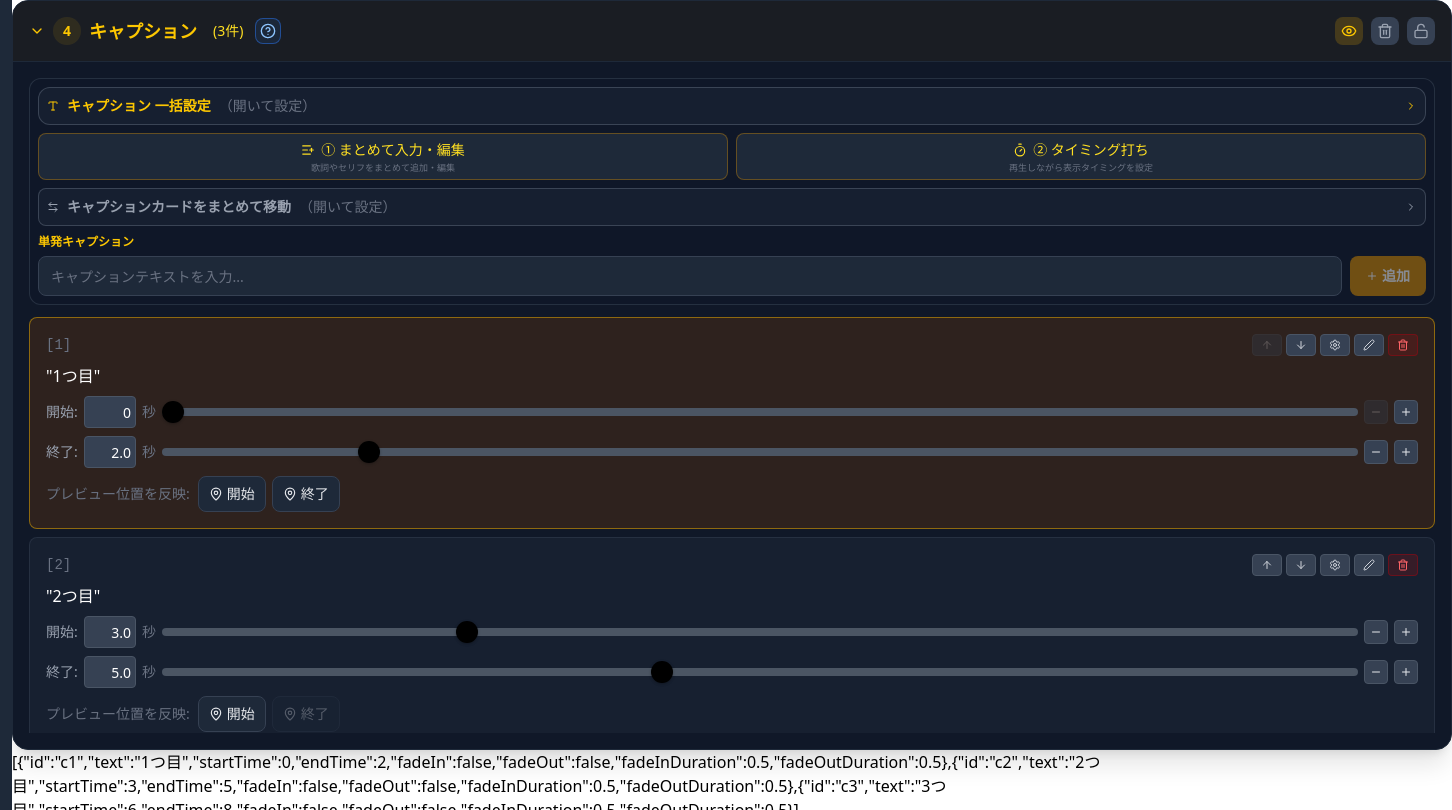
Test: タイミング打ちのプレビュー表示制御 › 手動終了（close-button）で通常のプレビューへ戻し、更新したデータを保持する
The width and height of the screenshot is (1452, 810).
Click the button "② タイミング打ち 再生しながら表示タイミングを設定". click: (1081, 157)
box: [736,133,1426,180]
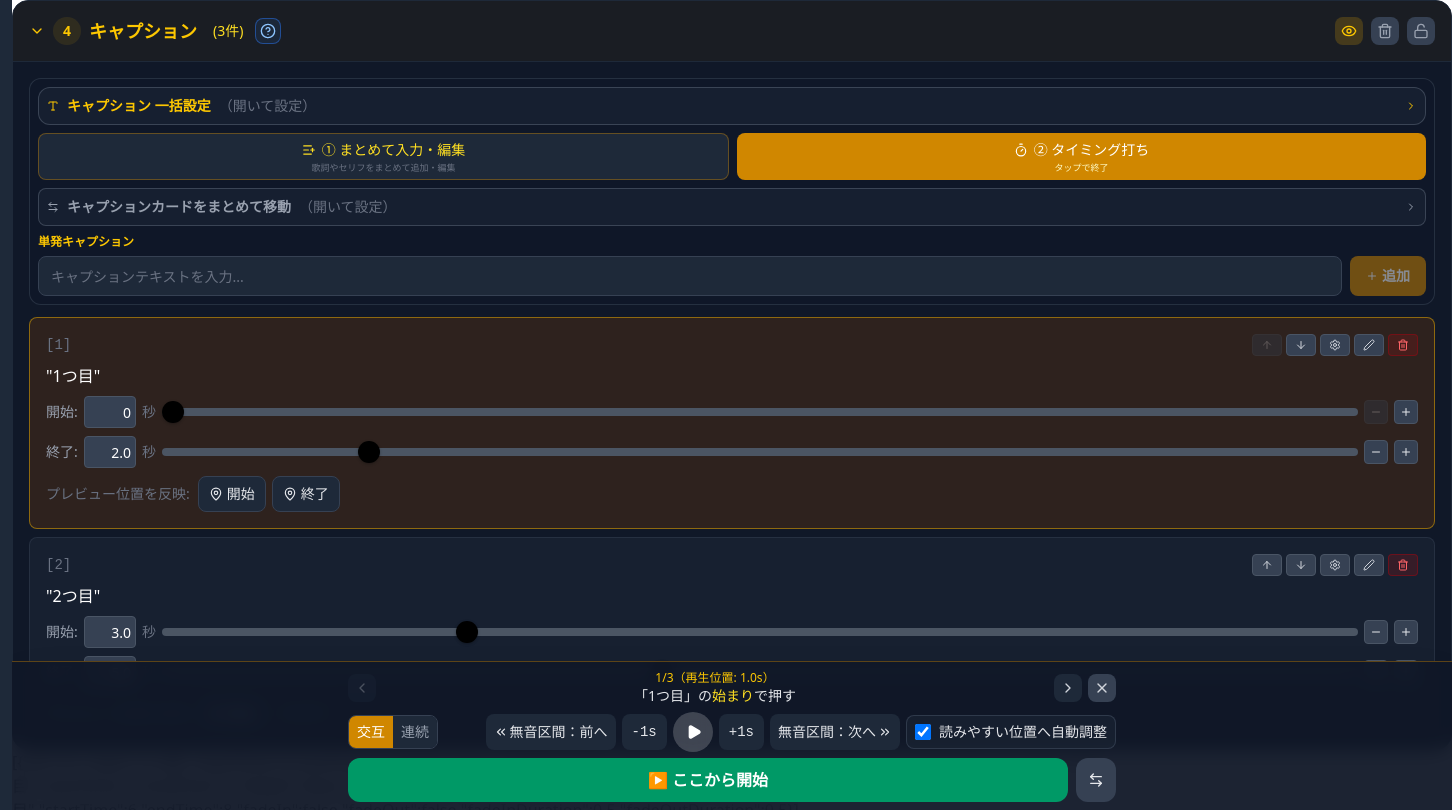
Click the button "▶ ここから開始". click: (708, 780)
box: [348,758,1068,802]
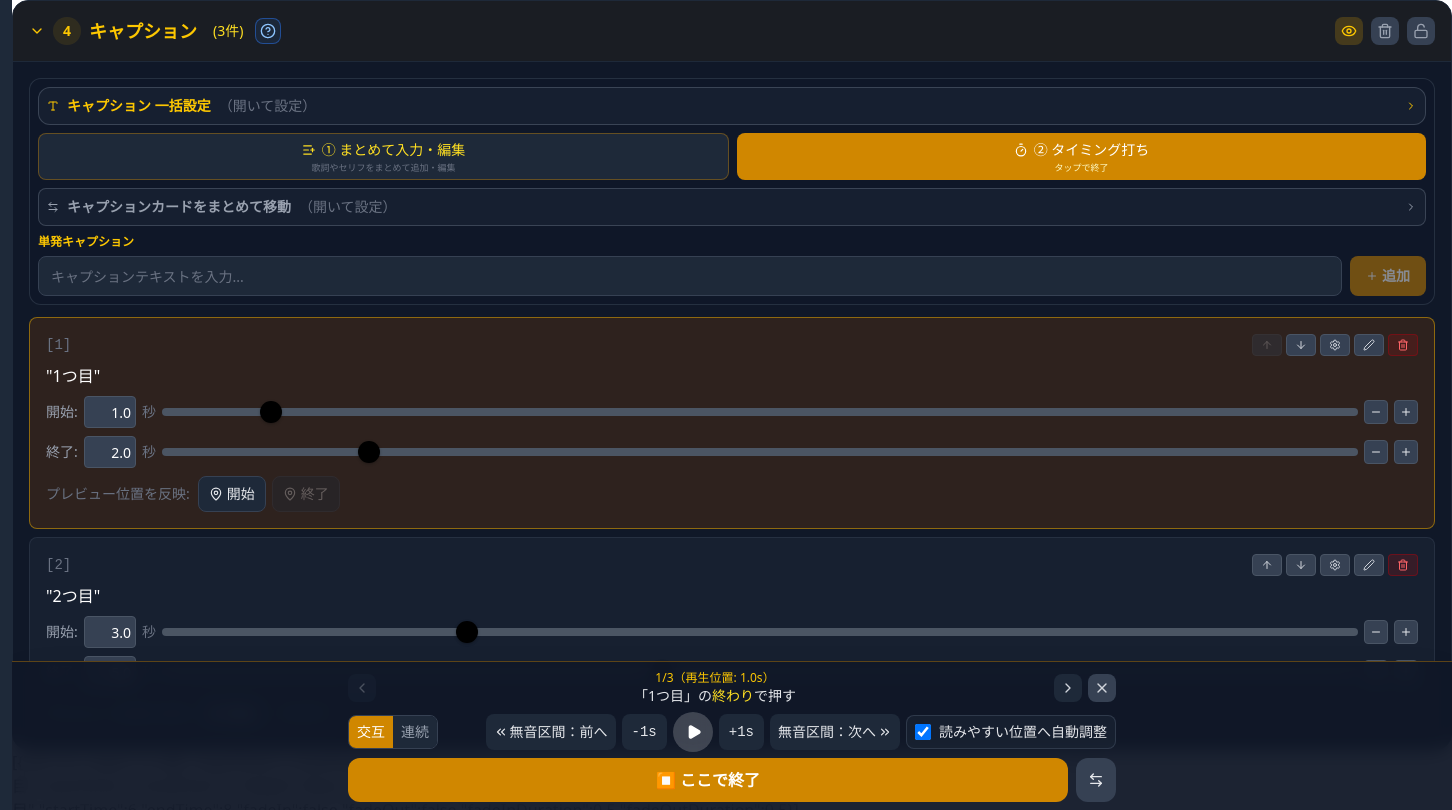
Click the button titled "タイミング打ちを終了". click: (1102, 688)
box: [1088,674,1116,702]
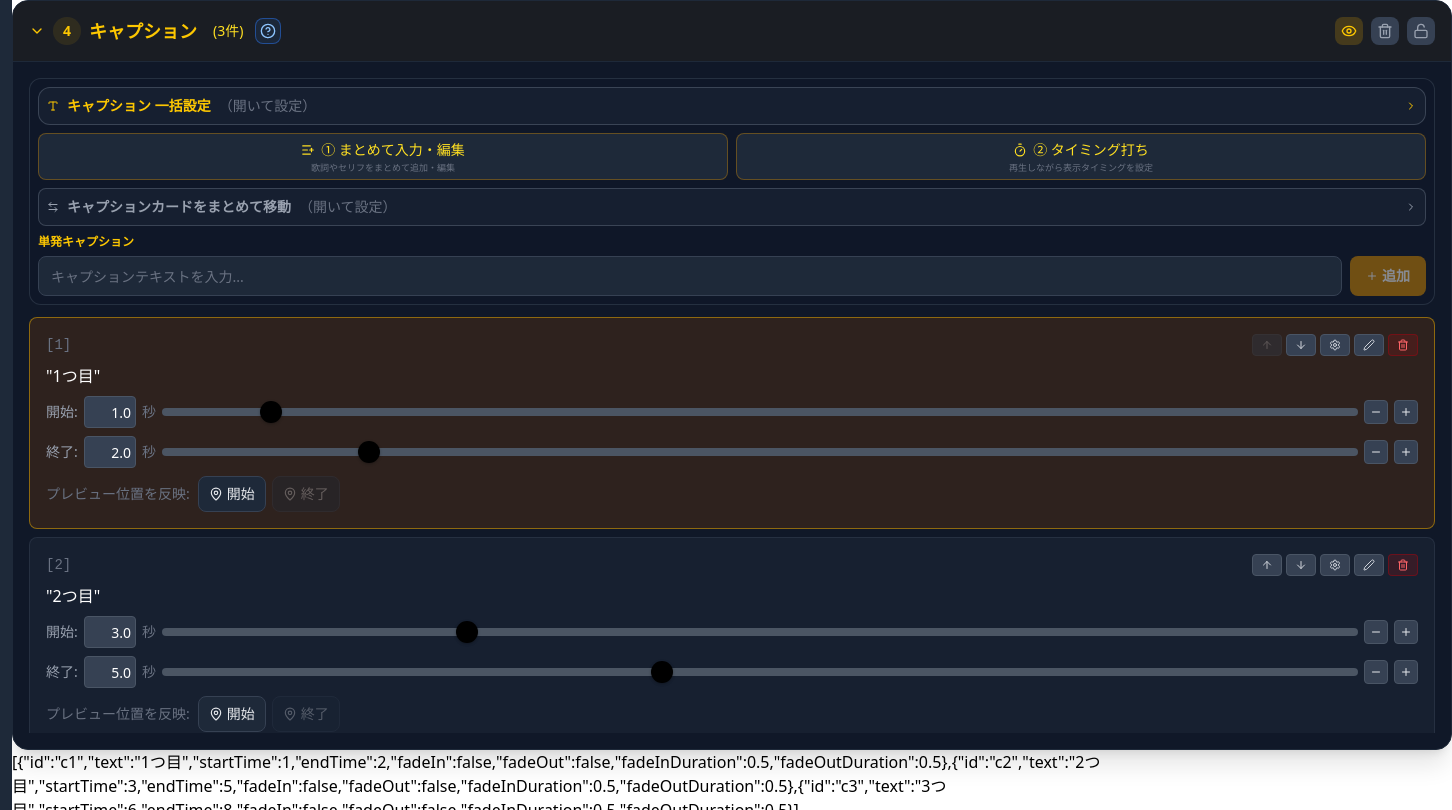
expect the element with test id "caption-stamp-transport" is gone: met
